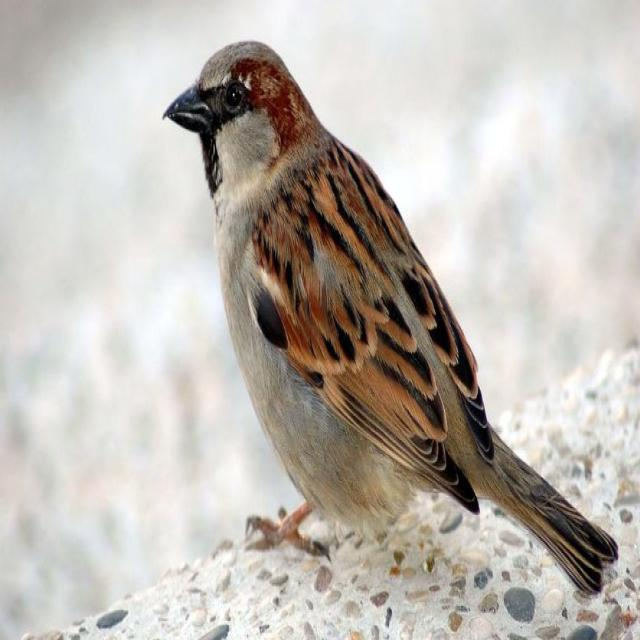Sparrow: (157, 32, 616, 597)
